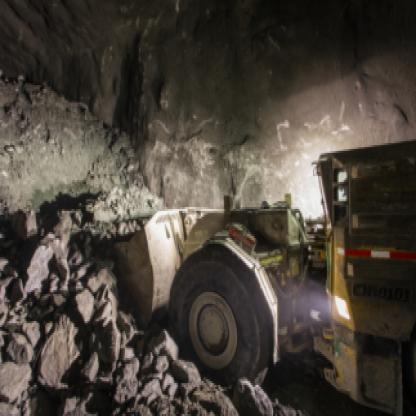bull_dozer/loader/grader: (102, 116, 414, 414)
